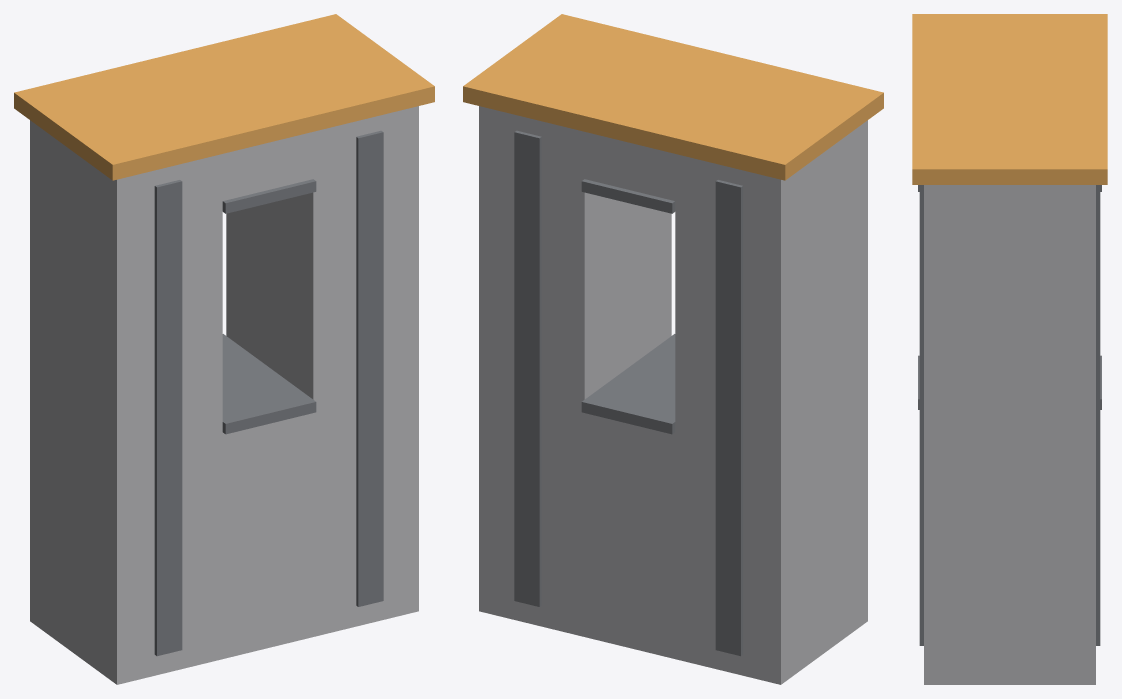
File: modular-greybox-architecture-kit-cover-block-full-4f719ed8__22910.glb
The picture shows the model from 3 angles, left to right: view 1: azimuth 30°, elevation 25°; view 2: azimuth 150°, elevation 25°; view 3: azimuth 270°, elevation 25°; orthographic projection.
Visible parts, largest first — view 1: cover-block-full; view 2: cover-block-full; view 3: cover-block-full.
Boxes of the visible parts, left/top/right/bottom form: cover-block-full: left=14, top=14, right=434, bottom=684; cover-block-full: left=463, top=14, right=883, bottom=684; cover-block-full: left=912, top=14, right=1107, bottom=684.
Size of the model in its own units: 1.28 by 2 by 0.6799.
